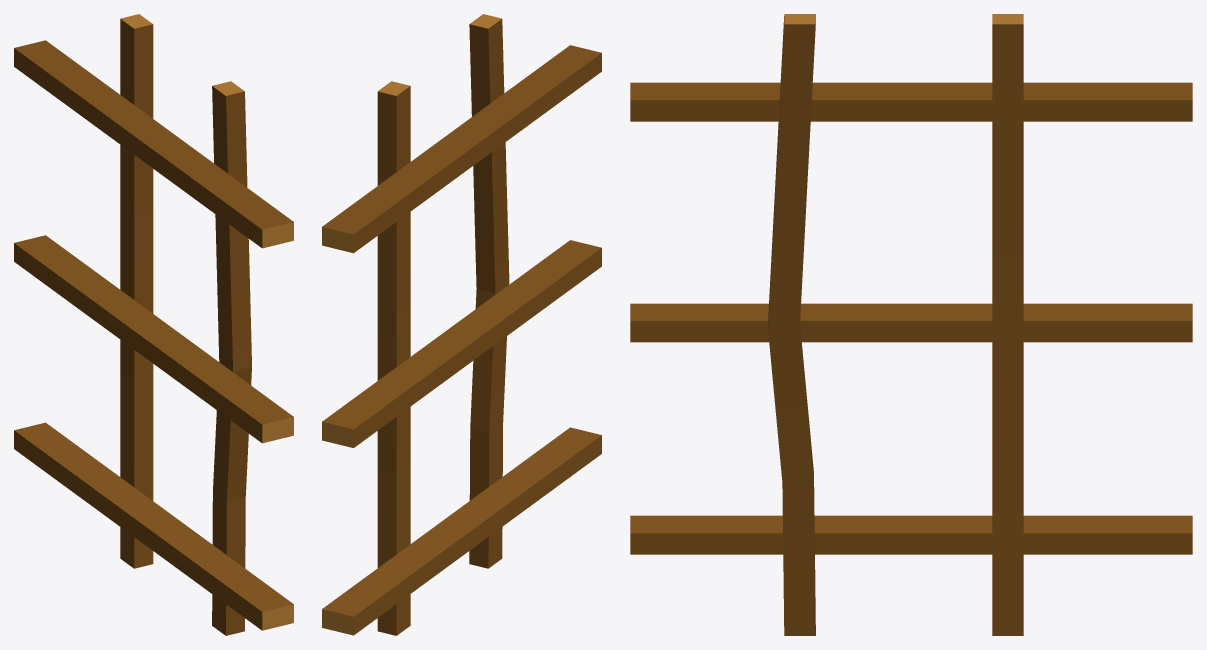
File: WoodFrame_2_2.glb
3 views of the same model, side by side, from view 1: azimuth 30°, elevation 25°; view 2: azimuth 150°, elevation 25°; view 3: azimuth 270°, elevation 25° (orthographic). The views are drawn at different scales.
Visible parts, largest first — view 1: WoodFrame_2_2; view 2: WoodFrame_2_2; view 3: WoodFrame_2_2.
Part boxes in pixels (x1,y1,x2,y2): WoodFrame_2_2: (14,14,293,635); WoodFrame_2_2: (322,14,601,635); WoodFrame_2_2: (630,14,1192,635).
Bounding box in the file's own units: 0.2357 × 2.4 × 2.
1 material, 1 textured.
